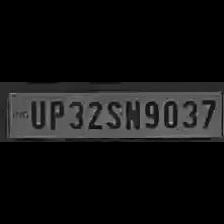0: (160, 97, 180, 128)
2: (84, 97, 102, 130)
3: (64, 97, 84, 130), (178, 97, 198, 129)
7: (198, 96, 216, 130)
9: (142, 97, 160, 129)
N: (123, 97, 141, 131)
P: (46, 97, 64, 130)
S: (102, 97, 122, 130)
U: (25, 97, 45, 129)
